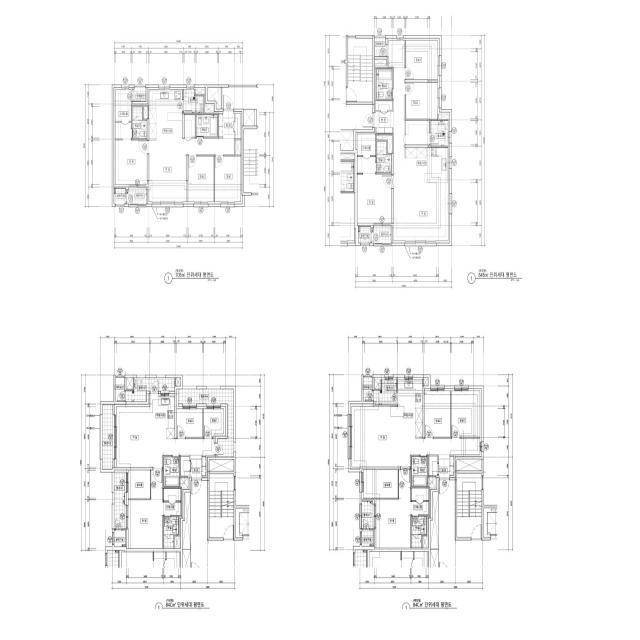space_balconi: (178, 389, 234, 457), (126, 378, 175, 402), (102, 405, 113, 470), (114, 472, 125, 529), (374, 380, 397, 405), (184, 90, 204, 113), (430, 121, 448, 146), (362, 501, 374, 529), (372, 226, 391, 243), (127, 188, 147, 204)
space_bedroom: (128, 470, 163, 548), (376, 470, 410, 548), (357, 174, 391, 223), (116, 140, 147, 185), (451, 391, 480, 437), (406, 41, 438, 80), (215, 156, 241, 202), (188, 156, 214, 202), (406, 83, 438, 119), (425, 391, 450, 437), (177, 409, 202, 437), (204, 409, 224, 437)
space_dressroom: (357, 134, 376, 173), (116, 90, 131, 139), (411, 488, 429, 515), (164, 489, 181, 515)
space_front: (219, 110, 234, 138), (374, 112, 393, 134), (439, 455, 454, 478), (190, 455, 206, 476)
space_kitchen: (149, 90, 183, 139), (405, 148, 448, 183), (398, 380, 423, 437), (150, 394, 175, 439)
space_living_room: (389, 41, 448, 241), (352, 406, 480, 467), (116, 407, 214, 467), (149, 138, 234, 202)
space_multipurpose_space: (364, 470, 398, 498), (128, 470, 150, 498)
space_other: (406, 121, 429, 145), (430, 492, 439, 549), (182, 492, 191, 549), (457, 459, 482, 471), (209, 460, 234, 471), (208, 88, 221, 109), (377, 135, 392, 153), (184, 115, 195, 137), (375, 38, 387, 57), (363, 378, 372, 401), (116, 378, 124, 402), (244, 109, 255, 126), (133, 87, 146, 101), (429, 456, 437, 476), (181, 457, 189, 476), (235, 114, 241, 139), (376, 101, 392, 110), (235, 140, 241, 155), (428, 477, 436, 488), (180, 478, 188, 488), (126, 378, 133, 389), (375, 59, 387, 65), (205, 105, 213, 113), (143, 107, 148, 119), (195, 89, 205, 95), (375, 380, 381, 389), (423, 536, 427, 548), (175, 536, 179, 548), (439, 114, 448, 119), (176, 378, 181, 386), (424, 379, 427, 386)
space_outdoor_room: (358, 227, 371, 243), (114, 530, 126, 547), (114, 188, 126, 204), (362, 530, 373, 546)
space_staircase: (209, 474, 234, 538), (457, 474, 482, 537), (348, 38, 372, 102)
space_toilet: (196, 115, 218, 137), (411, 516, 426, 548), (376, 69, 392, 99), (132, 107, 147, 139), (412, 456, 427, 487), (164, 517, 179, 548), (164, 457, 179, 487), (377, 141, 391, 173)
